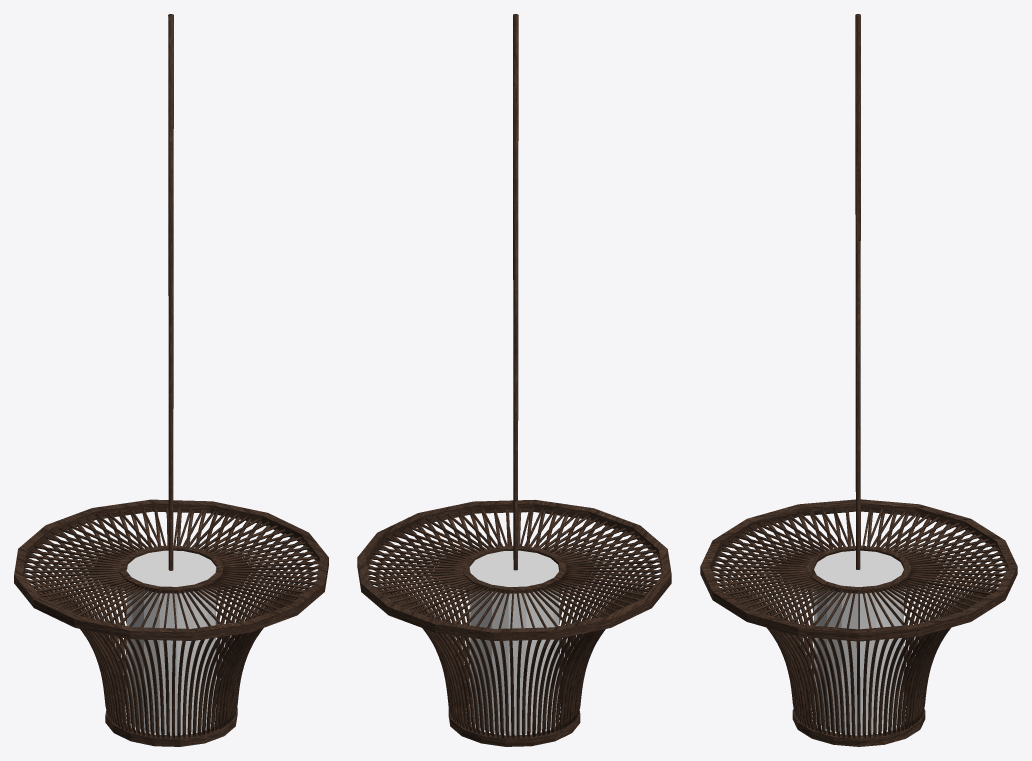
Rendered from sinnsitu_kaidann.fbx.
The picture shows the model from 3 angles, left to right: view 1: azimuth 30°, elevation 25°; view 2: azimuth 150°, elevation 25°; view 3: azimuth 270°, elevation 25°; orthographic projection.
Parts seen in each view (by area): view 1: 平面.004, 平面.002; view 2: 平面.004, 平面.002; view 3: 平面.004, 平面.002.
Boxes of the visible parts, box(x1,y1,x2,y2) form: 平面.004: box(14, 14, 328, 746); 平面.002: box(126, 550, 216, 734); 平面.004: box(357, 14, 671, 746); 平面.002: box(469, 550, 559, 734); 平面.004: box(700, 14, 1017, 746); 平面.002: box(814, 550, 903, 734).
Bounding box in the file's own units: 58.72 × 144 × 58.72.
